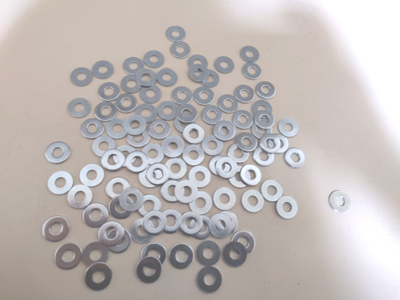circle: (85, 263, 112, 291), (43, 216, 70, 243), (55, 243, 82, 270), (136, 257, 162, 284), (98, 221, 125, 247), (83, 242, 109, 269), (141, 243, 167, 269), (68, 185, 94, 210), (106, 229, 132, 254), (83, 203, 109, 228), (47, 172, 74, 196), (198, 267, 222, 293), (170, 244, 194, 270), (197, 241, 221, 266), (209, 214, 233, 239), (80, 164, 105, 188), (119, 188, 144, 212), (109, 195, 134, 219), (142, 211, 167, 235), (131, 219, 155, 244), (45, 141, 71, 164), (189, 192, 213, 216), (223, 243, 247, 267), (231, 232, 255, 256), (160, 210, 184, 234), (139, 164, 162, 189), (242, 190, 265, 214), (102, 149, 126, 172), (180, 212, 203, 236), (189, 216, 212, 240), (214, 188, 237, 211), (175, 181, 198, 204), (126, 150, 149, 173), (215, 212, 239, 234), (138, 195, 162, 217), (106, 178, 131, 199), (162, 136, 185, 158), (142, 144, 165, 166), (93, 137, 116, 159), (277, 196, 298, 220), (329, 191, 351, 213), (261, 180, 283, 202), (216, 157, 238, 179), (189, 167, 211, 189), (165, 158, 187, 180), (230, 166, 251, 189), (162, 181, 185, 202), (81, 118, 104, 139), (127, 127, 150, 148), (183, 124, 205, 145), (183, 145, 205, 166), (125, 115, 147, 136), (68, 98, 91, 118), (285, 148, 306, 169), (241, 164, 262, 185), (116, 93, 137, 114), (140, 84, 162, 104), (202, 106, 224, 126), (149, 120, 171, 140), (233, 110, 254, 130), (278, 118, 299, 138), (260, 134, 281, 154), (237, 133, 258, 153), (210, 156, 231, 176), (203, 136, 224, 156), (121, 74, 142, 94), (254, 147, 274, 168), (228, 144, 249, 164), (107, 119, 128, 139), (71, 68, 93, 87), (98, 83, 120, 102), (95, 102, 117, 121), (269, 133, 289, 153), (252, 121, 273, 140), (194, 87, 215, 106), (177, 104, 198, 123), (136, 104, 157, 123), (135, 69, 157, 87), (92, 61, 114, 79), (253, 100, 273, 119), (255, 110, 275, 129), (175, 114, 195, 133), (215, 121, 234, 141), (217, 121, 237, 140), (158, 101, 177, 121), (218, 95, 239, 113), (172, 87, 193, 105), (256, 82, 276, 100), (215, 56, 235, 74), (235, 85, 255, 103), (188, 55, 208, 73), (189, 65, 209, 83), (158, 69, 178, 87), (144, 51, 164, 69), (124, 58, 145, 75), (242, 63, 262, 80), (200, 70, 220, 87), (172, 42, 191, 59), (241, 46, 260, 63), (166, 26, 186, 41)
